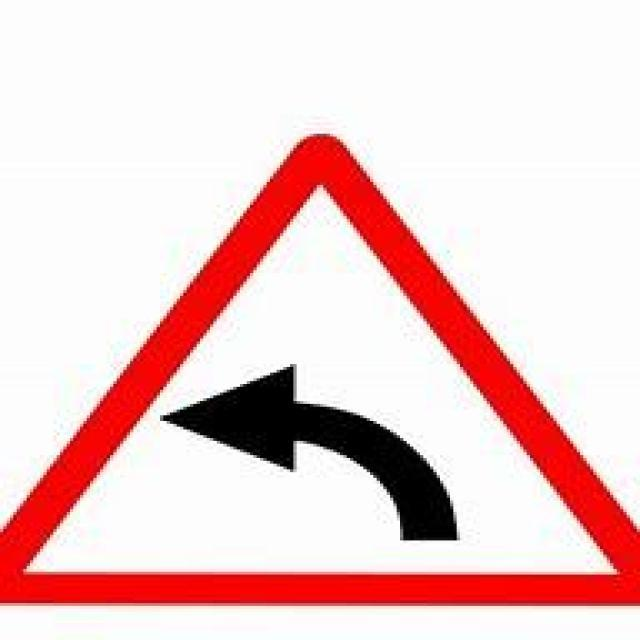left hand curve: (12, 121, 618, 617)
